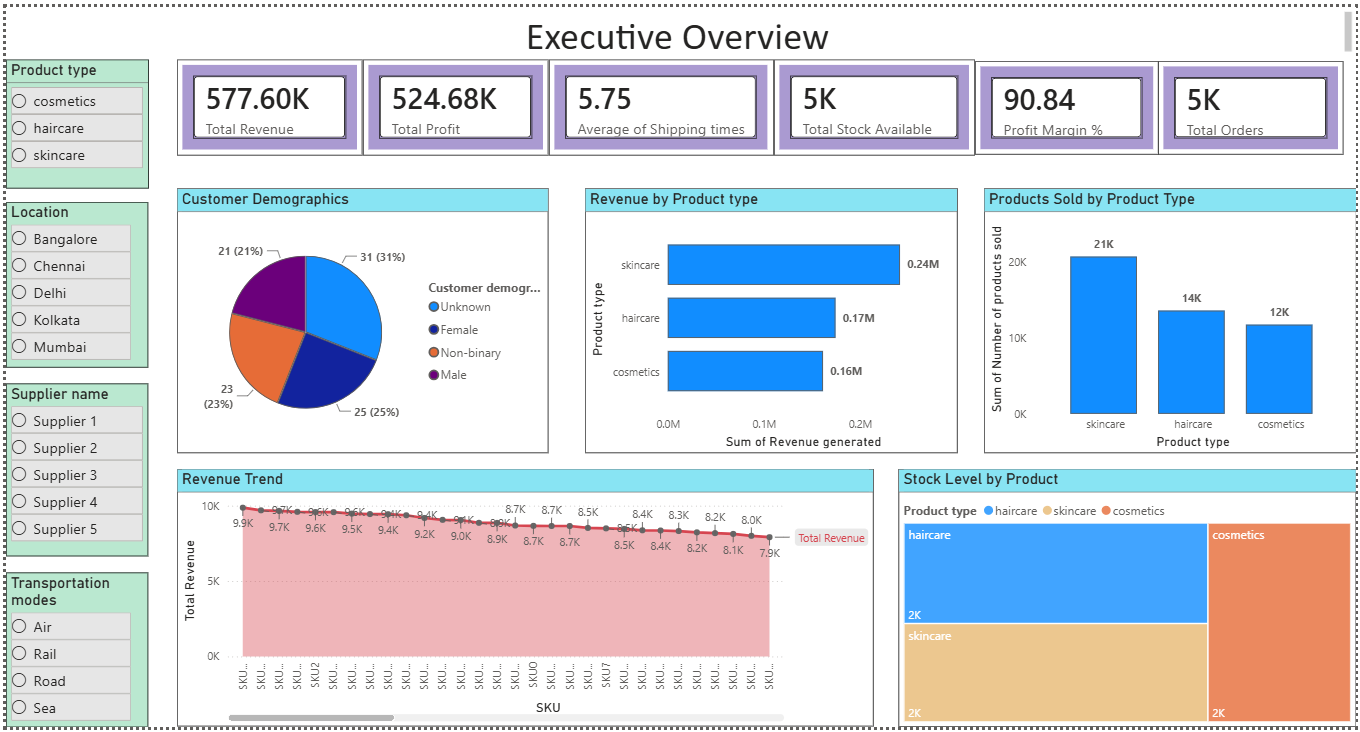

What the dashboard file says about the page in this screenshot:
{"tool":"powerbi","page":{"name":"Page 1","canvas":[1500,800],"ordinal":0},"visuals":[{"type":"cardVisual","fields":{"Data":["project_supply_chain_data supply_chain_data.Total Revenue"]},"box":[190.8,59.1,206,106.8],"z":0},{"type":"cardVisual","fields":{"Data":["project_supply_chain_data supply_chain_data.Total Stock Available"]},"box":[852.7,59.1,223.2,106.8],"z":1000},{"type":"barChart","title":"Revenue by Product type","fields":{"Category":["project_supply_chain_data supply_chain_data.Product type"],"Y":["Sum(project_supply_chain_data supply_chain_data.Revenue generated)"]},"box":[644,202,414,294],"z":2000},{"type":"lineChart","title":"Revenue Trend","fields":{"Category":["project_supply_chain_data supply_chain_data.SKU"],"Y":["project_supply_chain_data supply_chain_data.Total Revenue"]},"box":[190,514,774,286],"z":3000},{"type":"treemap","title":"Stock Level by Product ","fields":{"Group":["project_supply_chain_data supply_chain_data.Product type"],"Values":["Sum(project_supply_chain_data supply_chain_data.Stock levels)"]},"box":[991.7,513.3,508.3,286.7],"z":4000},{"type":"pieChart","title":"Customer Demographics","fields":{"Category":["project_supply_chain_data supply_chain_data.Customer demographics"],"Y":["CountNonNull(project_supply_chain_data supply_chain_data.SKU)"]},"box":[190,201.4,412.9,294.3],"z":5000},{"type":"cardVisual","fields":{"Data":["project_supply_chain_data supply_chain_data.Total Orders"]},"box":[1280,60,206,104],"z":6000},{"type":"cardVisual","fields":{"Data":["Avg(project_supply_chain_data supply_chain_data.Shipping times)"]},"box":[602.8,59.1,249.9,106.8],"z":7000},{"type":"cardVisual","fields":{"Data":["project_supply_chain_data supply_chain_data.Profit"]},"box":[396.8,59.1,206,106.8],"z":8000},{"type":"cardVisual","fields":{"Data":["project_supply_chain_data supply_chain_data.Profit Margin %"]},"box":[1076,60,204,104],"z":9000},{"type":"listSlicer","fields":{"Values":["project_supply_chain_data supply_chain_data.Product type"]},"box":[0,58.3,158.3,143.3],"z":10000},{"type":"listSlicer","fields":{"Values":["project_supply_chain_data supply_chain_data.Location"]},"box":[0,216,158,184],"z":11000},{"type":"listSlicer","fields":{"Values":["project_supply_chain_data supply_chain_data.Supplier name"]},"box":[0,418,158,192],"z":12000},{"type":"listSlicer","fields":{"Values":["project_supply_chain_data supply_chain_data.Transportation modes"]},"box":[0,628,158,172],"z":13000},{"type":"columnChart","title":"Products Sold by Product Type","fields":{"Category":["project_supply_chain_data supply_chain_data.Product type"],"Y":["Sum(project_supply_chain_data supply_chain_data.Number of products sold)"]},"box":[1086,202,414,294],"z":14000},{"type":"textbox","box":[0,0,1500,58],"z":15000}]}

Visuals, with their boxes in screenshot pixels (x1, y1, x2, y2), scaled from the page's 1500x800 canvas onto the 1360x732 screenshot:
cardVisual - project_supply_chain_data supply_chain_data.Total Revenue: [173, 54, 360, 152]
cardVisual - project_supply_chain_data supply_chain_data.Total Stock Available: [773, 54, 975, 152]
"Revenue by Product type" barChart: [584, 185, 959, 454]
"Revenue Trend" lineChart: [172, 470, 874, 731]
"Stock Level by Product " treemap: [899, 470, 1359, 731]
"Customer Demographics" pieChart: [172, 184, 547, 454]
cardVisual - project_supply_chain_data supply_chain_data.Total Orders: [1161, 55, 1347, 150]
cardVisual - Avg(project_supply_chain_data supply_chain_data.Shipping times): [547, 54, 773, 152]
cardVisual - project_supply_chain_data supply_chain_data.Profit: [360, 54, 547, 152]
cardVisual - project_supply_chain_data supply_chain_data.Profit Margin %: [976, 55, 1161, 150]
listSlicer - project_supply_chain_data supply_chain_data.Product type: [0, 53, 144, 184]
listSlicer - project_supply_chain_data supply_chain_data.Location: [0, 198, 143, 366]
listSlicer - project_supply_chain_data supply_chain_data.Supplier name: [0, 382, 143, 558]
listSlicer - project_supply_chain_data supply_chain_data.Transportation modes: [0, 575, 143, 731]
"Products Sold by Product Type" columnChart: [985, 185, 1359, 454]
textbox: [0, 0, 1359, 53]
